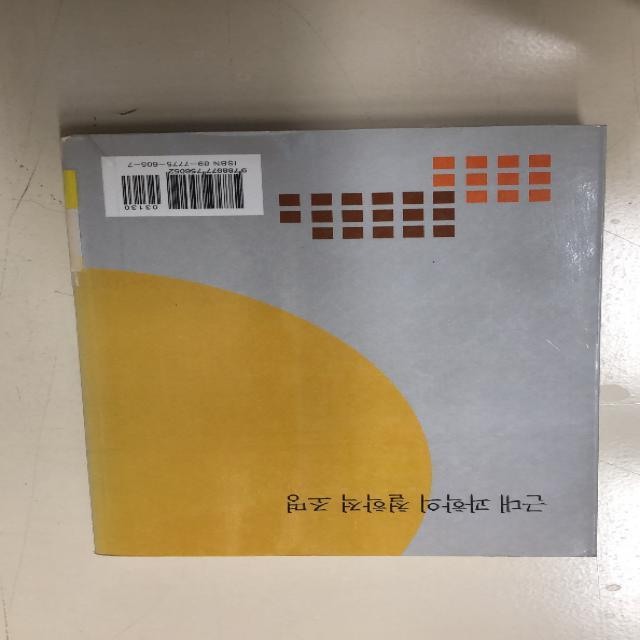Wornout: (182, 125, 311, 146), (442, 546, 539, 561), (54, 127, 104, 151), (560, 543, 601, 561)
